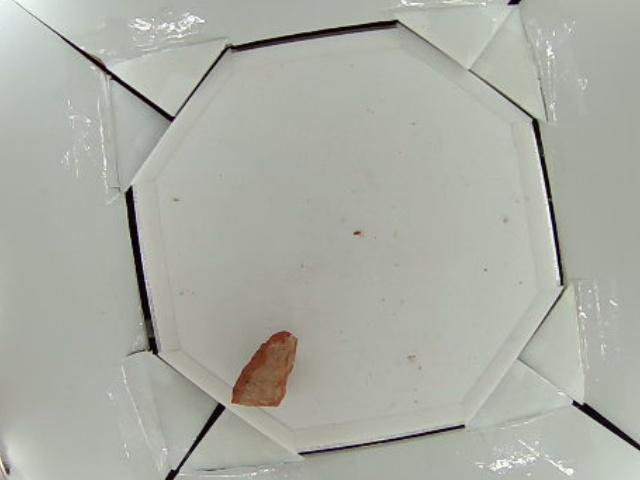Brisk: (228, 331, 297, 407)
